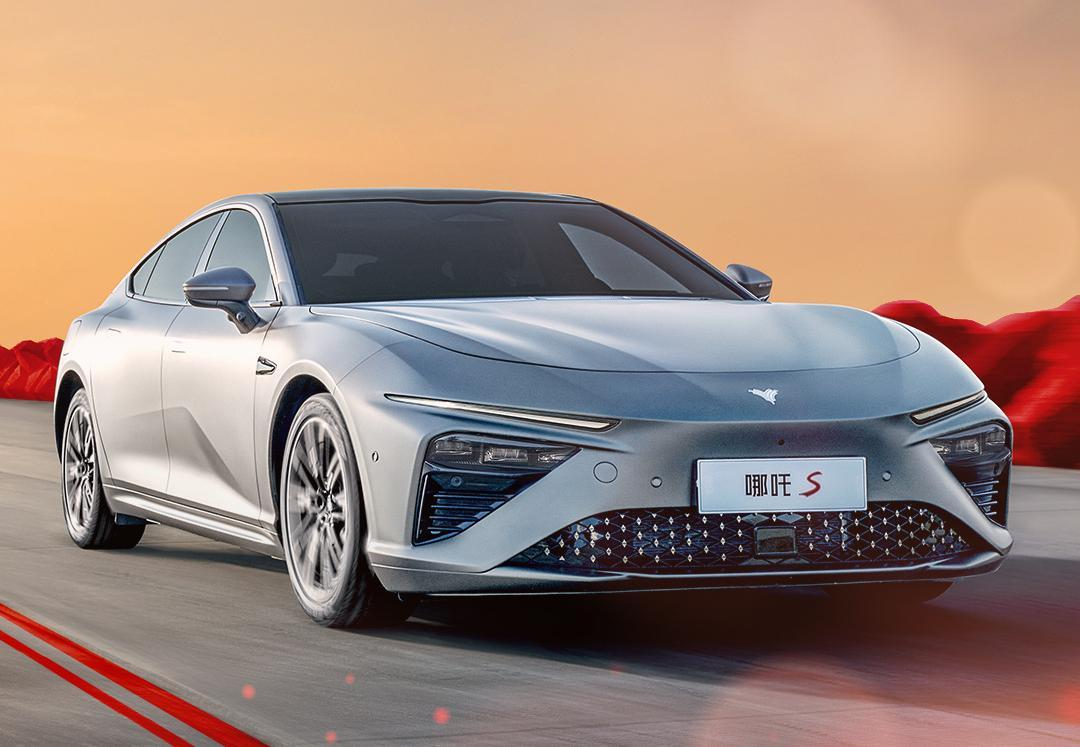NETA: (748, 388, 779, 406)
